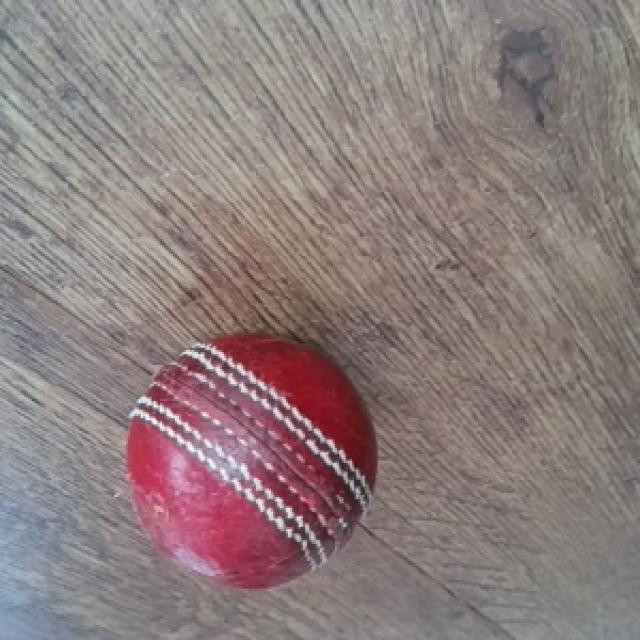ball: (122, 332, 378, 590)
